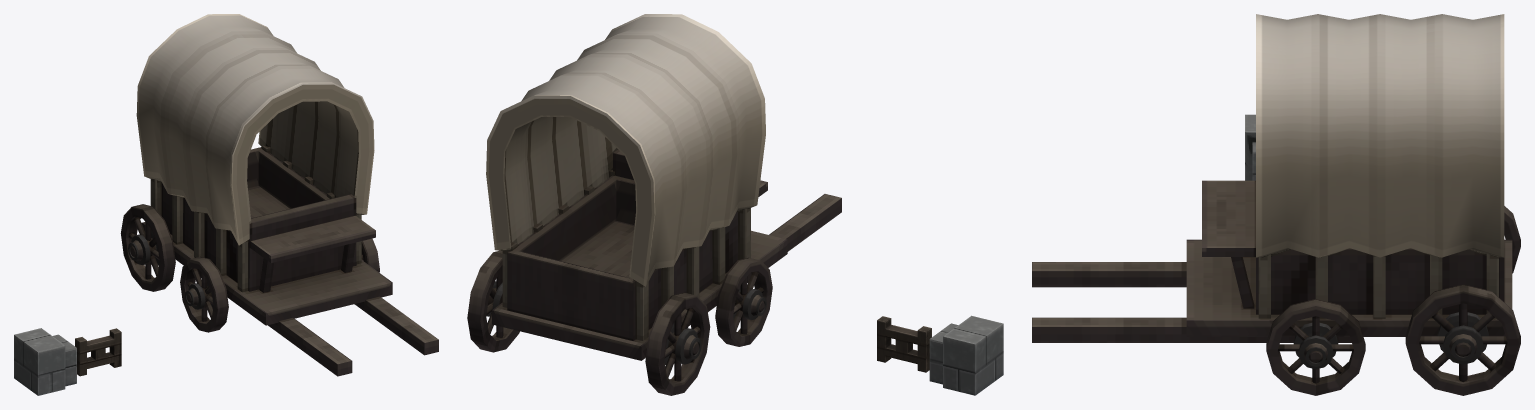
File: machezhalan.fbx
The picture shows the model from 3 angles, left to right: view 1: azimuth 30°, elevation 25°; view 2: azimuth 150°, elevation 25°; view 3: azimuth 270°, elevation 25°; orthographic projection. The views are drawn at different scales.
Parts seen in each view (by area): view 1: mache, shitou, zhalan; view 2: mache, shitou, zhalan; view 3: mache, shitou.
Part boxes in pixels (<box>): mache: <box>120,14,438,376</box>; shitou: <box>14,328,76,395</box>; zhalan: <box>75,328,121,376</box>; mache: <box>467,14,841,395</box>; shitou: <box>929,315,1003,395</box>; zhalan: <box>877,316,931,372</box>; mache: <box>1032,14,1520,395</box>; shitou: <box>1245,114,1255,180</box>.
Bounding box in the file's own units: 8.64 × 5.58 × 7.74.
3 materials, 3 textured.
